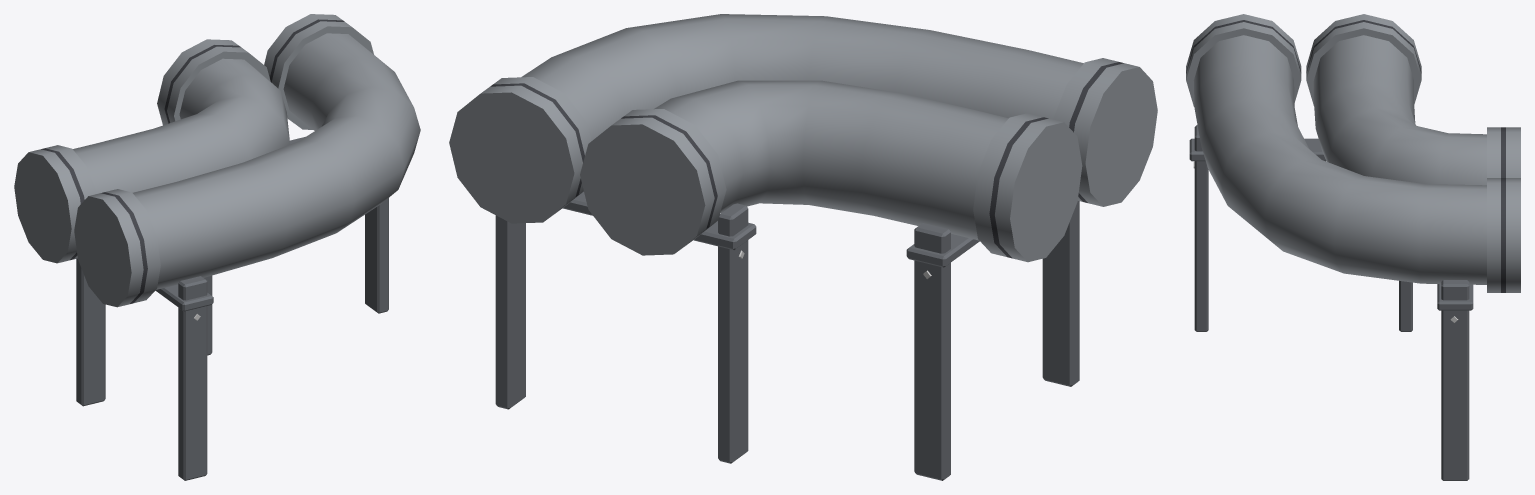
Rendered from SM_Pipe_5.fbx.
3 renders of one model, left to right at view 1: azimuth 30°, elevation 25°; view 2: azimuth 150°, elevation 25°; view 3: azimuth 270°, elevation 25°, orthographic. The views are drawn at different scales.
Parts seen in each view (by area): view 1: SM_Pipe_5_LOD0; view 2: SM_Pipe_5_LOD0; view 3: SM_Pipe_5_LOD0.
Part boxes in pixels (x1=…): SM_Pipe_5_LOD0: x1=14, y1=14, x2=420, y2=480; SM_Pipe_5_LOD0: x1=449, y1=14, x2=1157, y2=480; SM_Pipe_5_LOD0: x1=1186, y1=14, x2=1520, y2=480.
Bounding box in the file's own units: 366 × 267 × 246.
1 material, 1 textured.
